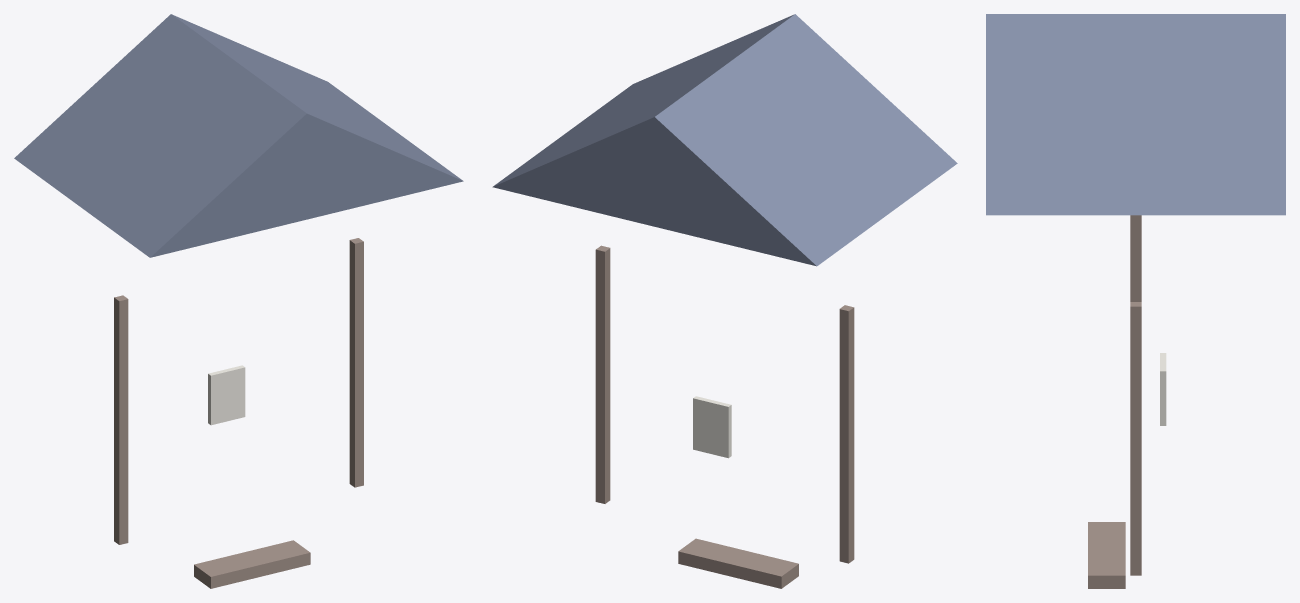
File: moonhill-skyrail-shelter-01.glb
3 renders of one model, left to right at view 1: azimuth 30°, elevation 25°; view 2: azimuth 150°, elevation 25°; view 3: azimuth 270°, elevation 25°, orthographic. The views are drawn at different scales.
Visible parts, largest first — view 1: ShelterRoof, Post_0, Post_1, Bench, Timetable; view 2: ShelterRoof, Post_0, Post_1, Bench, Timetable; view 3: ShelterRoof, Post_1, Bench, Post_0, Timetable.
Part boxes in pixels (<box>): ShelterRoof: <box>14,14,463,257</box>; Post_0: <box>114,295,128,544</box>; Post_1: <box>349,238,363,487</box>; Bench: <box>194,540,310,588</box>; Timetable: <box>208,365,245,425</box>; ShelterRoof: <box>492,14,957,266</box>; Post_0: <box>839,305,854,563</box>; Post_1: <box>595,245,610,503</box>; Bench: <box>678,538,798,588</box>; Timetable: <box>693,396,731,458</box>; ShelterRoof: <box>986,14,1285,215</box>; Post_1: <box>1130,302,1141,575</box>; Bench: <box>1088,522,1125,588</box>; Post_0: <box>1130,215,1141,301</box>; Timetable: <box>1160,353,1166,425</box>.
Bounding box in the file's own units: 1.92 × 2.9 × 1.44.
